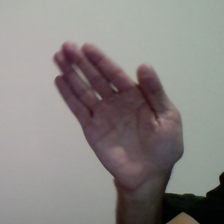left: (46, 31, 192, 191)
